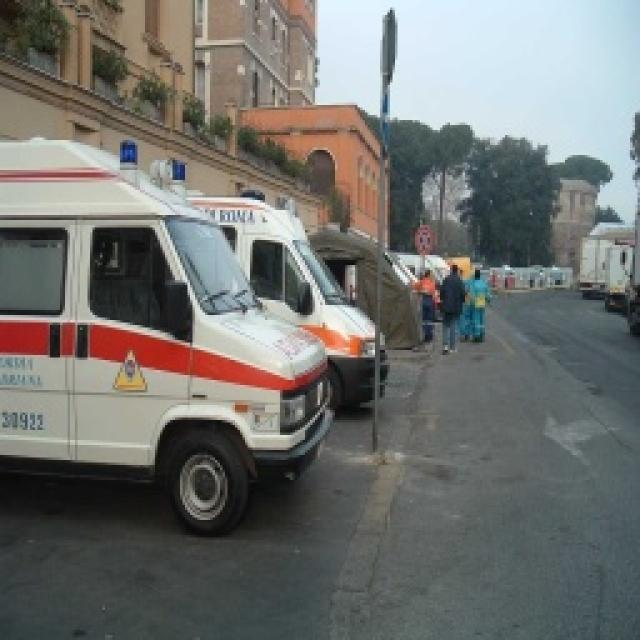emergency-vehicle: (0, 140, 321, 521)
